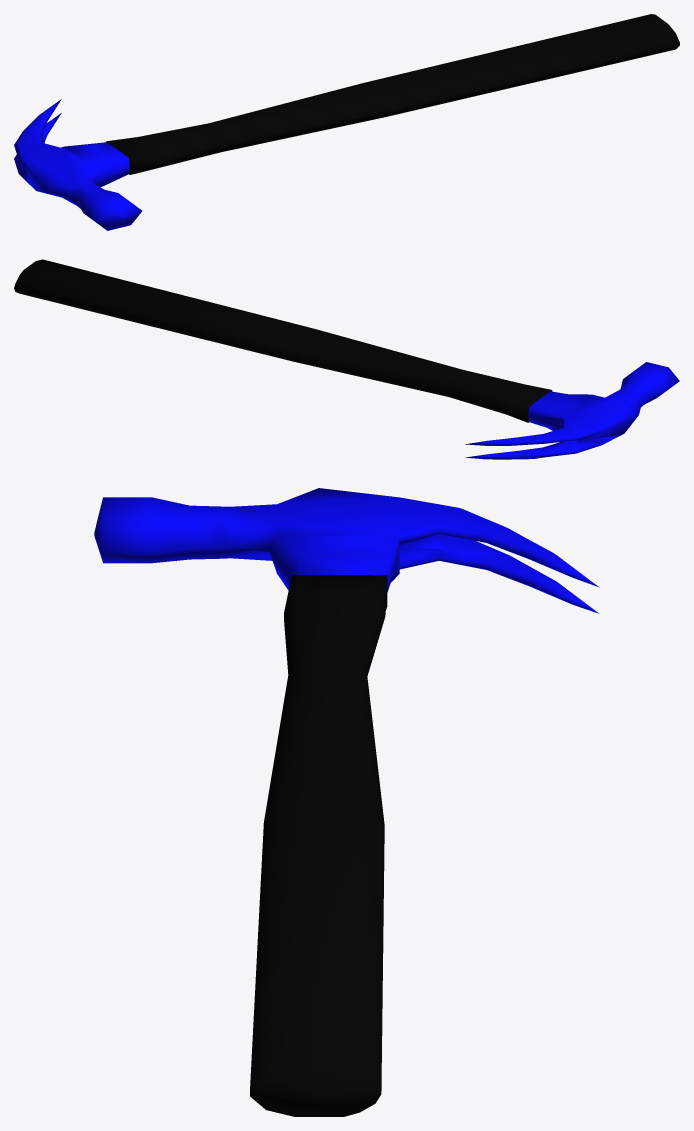
Rendered from hammer_04_origin_gt_5.dae.
The picture shows the model from 3 angles, top to bottom: view 1: azimuth 30°, elevation 25°; view 2: azimuth 150°, elevation 25°; view 3: azimuth 270°, elevation 25°; orthographic projection. The views are drawn at different scales.
Visible parts, largest first — view 1: group_0 (×2); view 2: group_0 (×2); view 3: group_0 (×2).
Part boxes in pixels (x1,y1,x2,y2): group_0 (×2): [14, 14, 679, 230]; group_0 (×2): [14, 259, 679, 459]; group_0 (×2): [94, 488, 599, 1116].
Bounding box in the file's own units: 19.45 × 7.02 × 0.7423.
